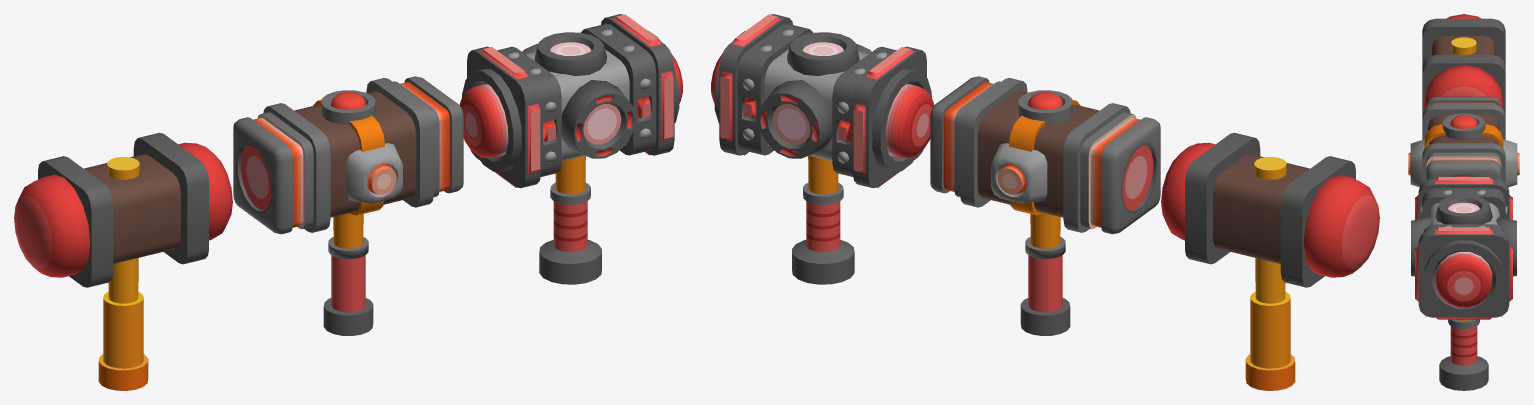
Rendered from Hammer01.fbx.
The picture shows the model from 3 angles, left to right: view 1: azimuth 30°, elevation 25°; view 2: azimuth 150°, elevation 25°; view 3: azimuth 270°, elevation 25°; orthographic projection. The views are drawn at different scales.
Parts seen in each view (by area): view 1: Hammer01_LV3, Hammer01_LV2, Hammer01_LV1; view 2: Hammer01_LV3, Hammer01_LV2, Hammer01_LV1; view 3: Hammer01_LV3, Hammer01_LV2, Hammer01_LV1.
Boxes of the visible parts, <box> form: Hammer01_LV3: <box>459,14,682,284</box>; Hammer01_LV2: <box>233,76,463,335</box>; Hammer01_LV1: <box>14,132,232,390</box>; Hammer01_LV3: <box>711,14,934,284</box>; Hammer01_LV2: <box>930,76,1160,335</box>; Hammer01_LV1: <box>1161,132,1379,390</box>; Hammer01_LV3: <box>1411,177,1516,390</box>; Hammer01_LV2: <box>1408,96,1519,187</box>; Hammer01_LV1: <box>1422,14,1505,114</box>.
Bounding box in the file's own units: 5.04 × 1.73 × 0.9748.
